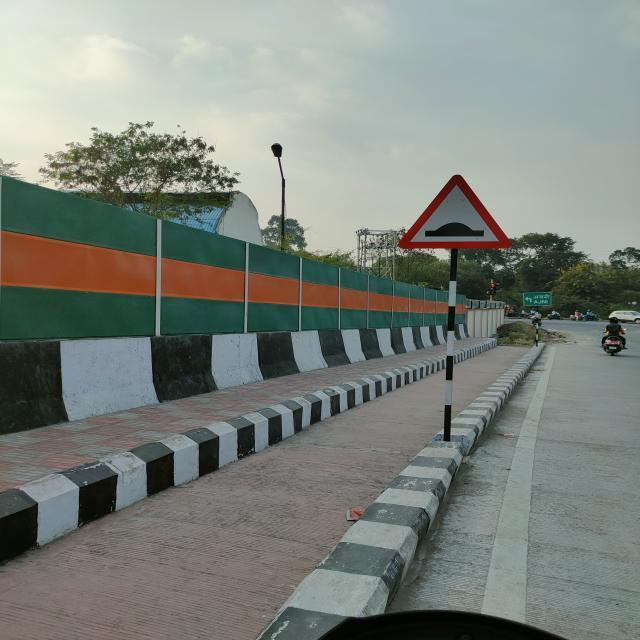hump or rough road: (396, 173, 515, 248)
